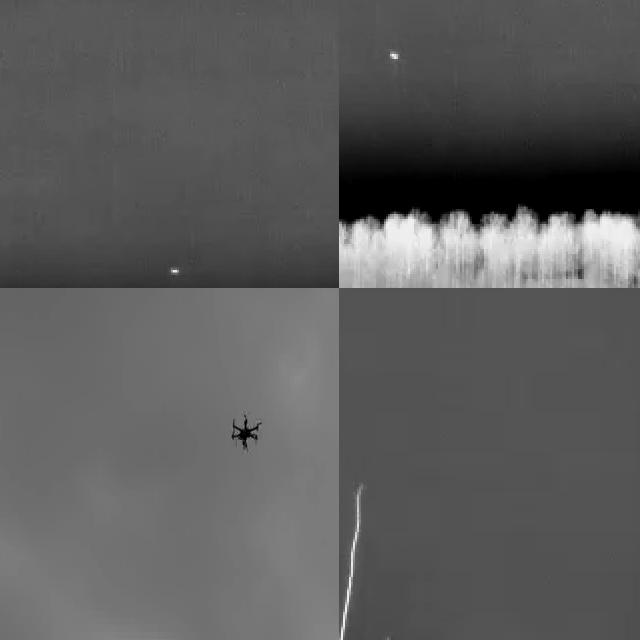1: (161, 253, 193, 285), (385, 44, 409, 69)
drone: (228, 405, 262, 453)
